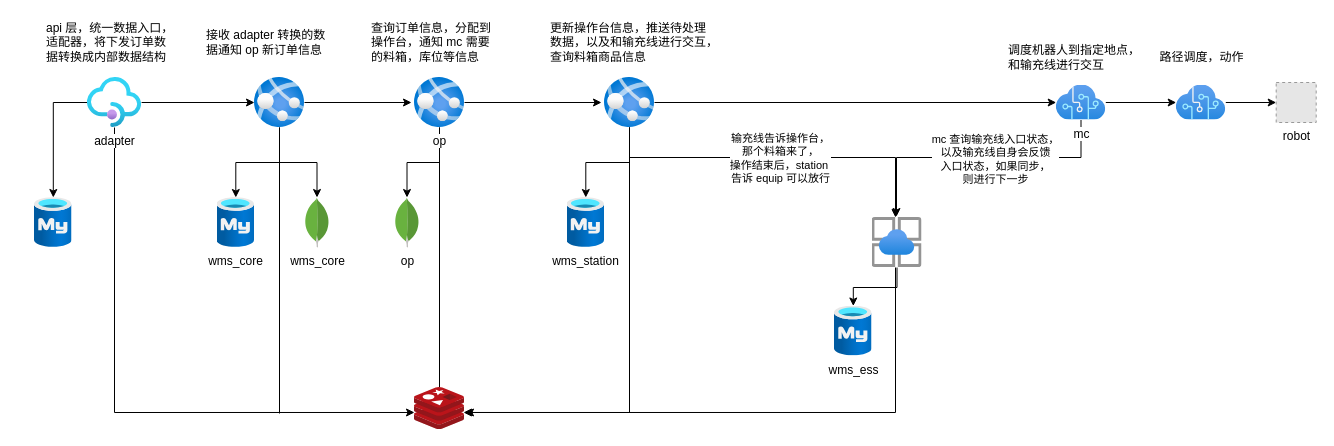
Some shapes in this 1334 by 446 pixel diagram are drawn without their labels. Grey dashed boxes stand in for pictures. Each missing label, with the centre of its shape:
core: the point at 279,102
equip: the point at 897,242
ss: the point at 1200,102
station: the point at 629,102
wms_adapter: the point at 53,222
